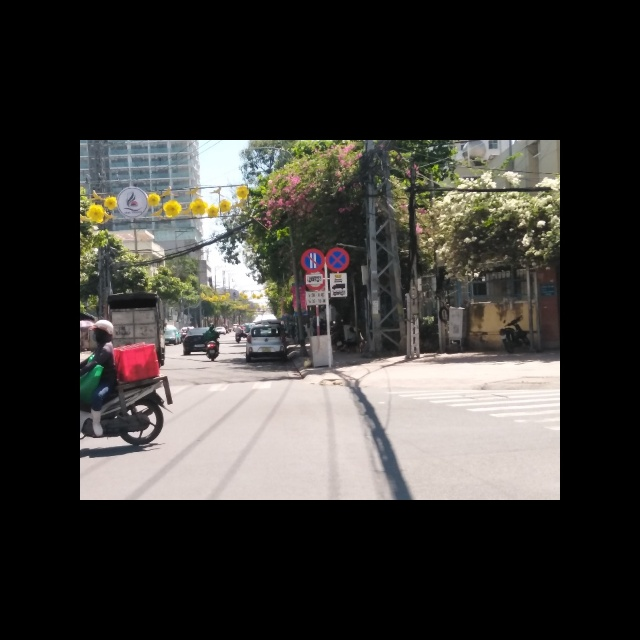Cấm dừng xe và đỗ xe: (326, 247, 350, 273)
Cấm đỗ xe ngày chẵn: (300, 248, 325, 273)
